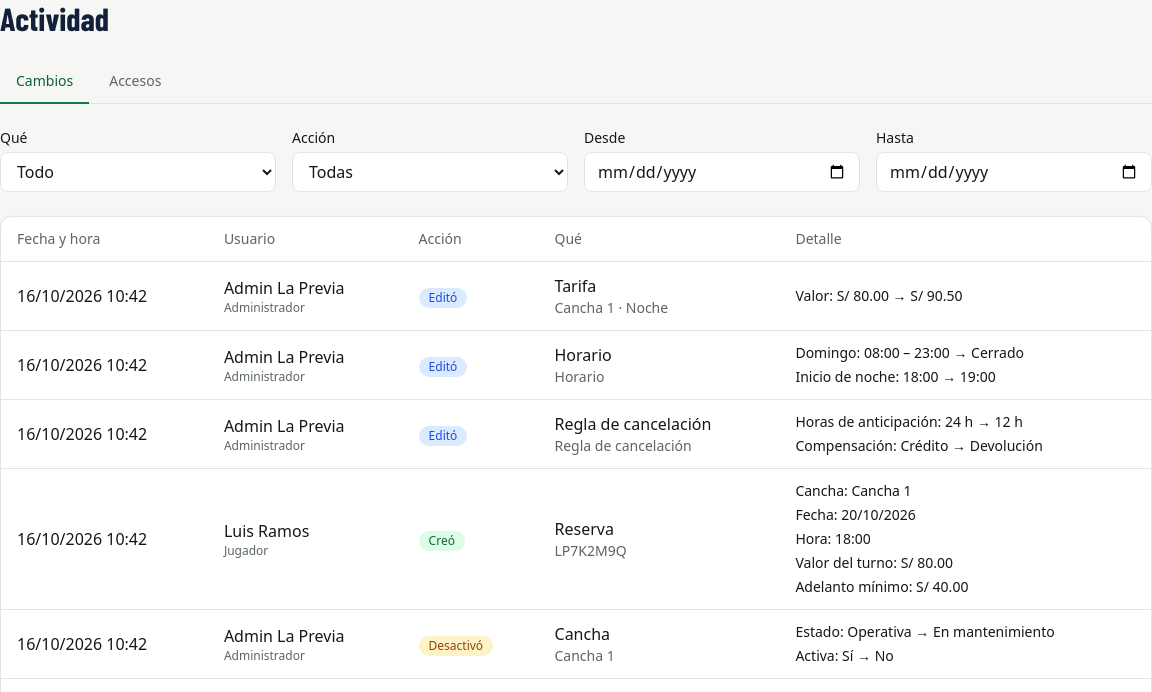
Actividad: filtros y paginación de cambios › si el server rechaza el rango muestra el error debajo de Hasta
In the date field labelled "Hasta": (1014, 172) [876,152,1151,192], type "2026-01-01"
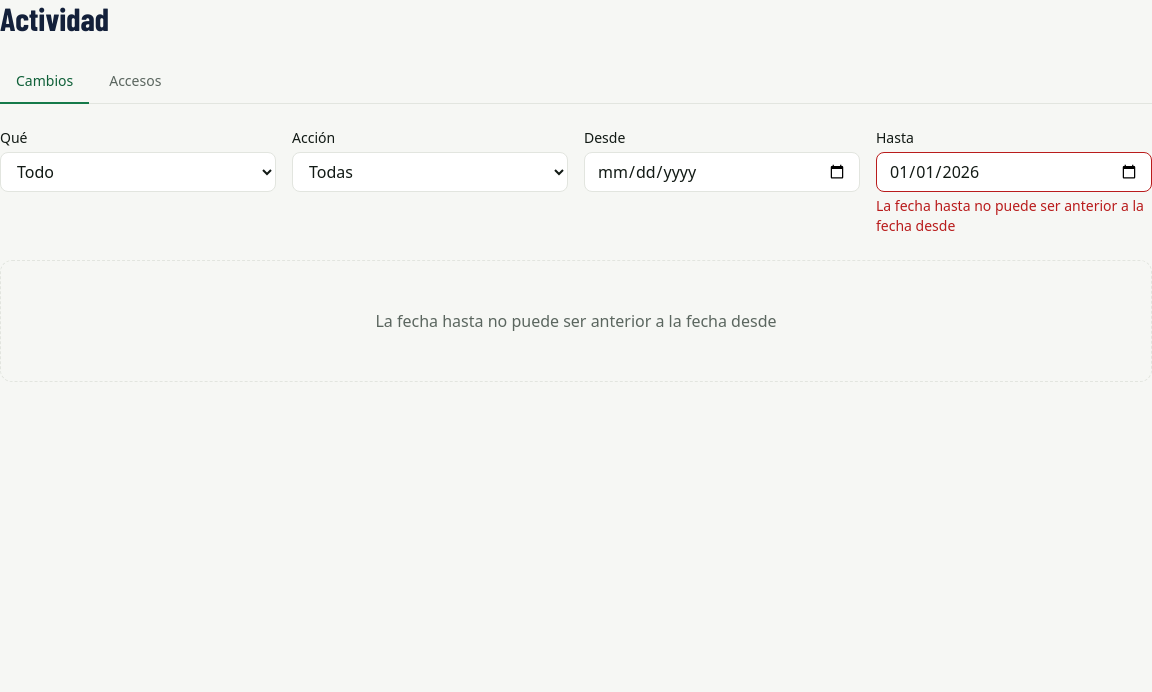
Check: the 1st text "La fecha hasta no puede ser anterior a la fecha desde" is shown, box [876,196,1151,236]
